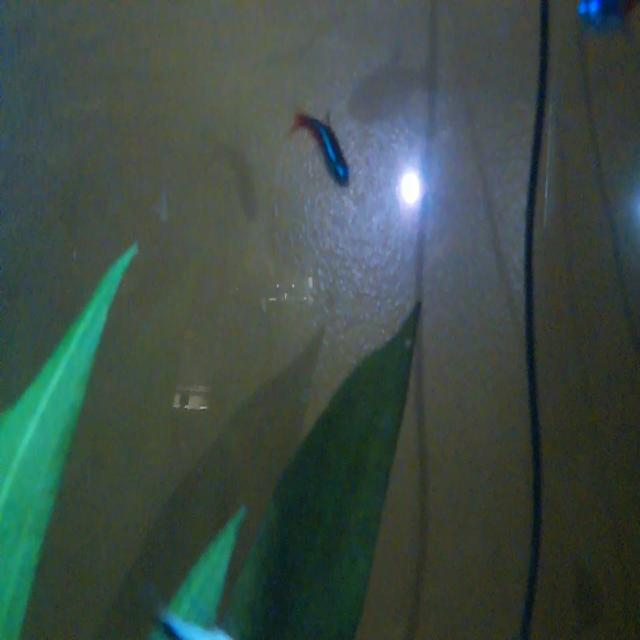fish: (283, 104, 361, 198)
